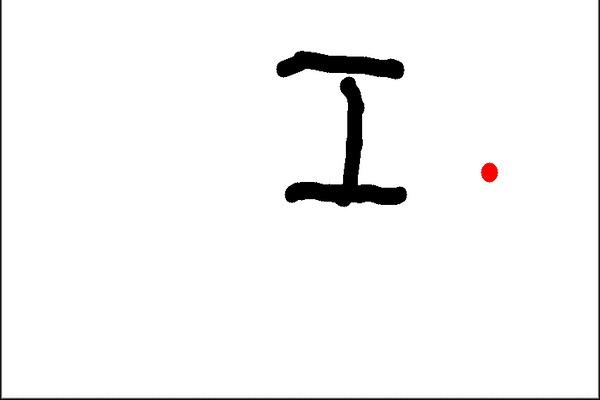i: (259, 38, 425, 227)
